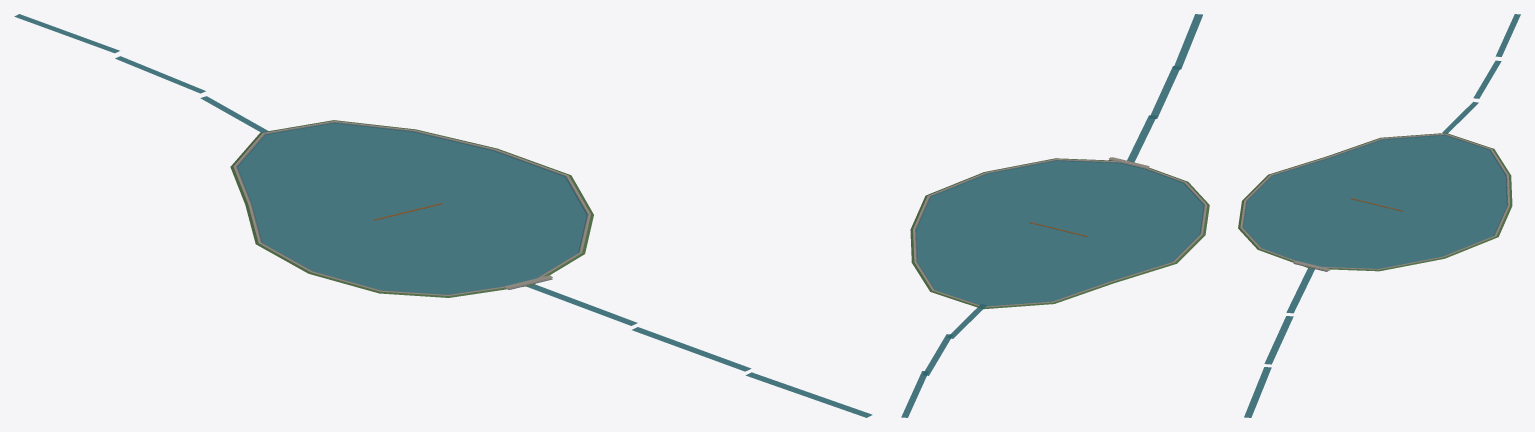
Rendered from water_ho_da_tam_mimosa.glb.
3 views of the same model, side by side, from view 1: azimuth 30°, elevation 25°; view 2: azimuth 150°, elevation 25°; view 3: azimuth 330°, elevation 25° (orthographic). The views are drawn at different scales.
Visible parts, largest first — view 1: water_surface_water_ho_da_tam_mimosa, headwater_terraces_stream_outflow_da_tam_lower_mimosa, shoreline_terrain_transition_verge_water_ho_da_tam_mimosa, lakeside_promenade_walkway_water_ho_da_tam_mimosa, headwater_terraces_stream_inflow_khe_sanh_mimosa, embankment_stone_coping_water_ho_da_tam_mimosa; view 2: water_surface_water_ho_da_tam_mimosa, shoreline_terrain_transition_verge_water_ho_da_tam_mimosa, headwater_terraces_stream_outflow_da_tam_lower_mimosa, lakeside_promenade_walkway_water_ho_da_tam_mimosa, headwater_terraces_stream_inflow_khe_sanh_mimosa, embankment_stone_coping_water_ho_da_tam_mimosa, embankment_stone_slope_water_ho_da_tam_mimosa; view 3: water_surface_water_ho_da_tam_mimosa, shoreline_terrain_transition_verge_water_ho_da_tam_mimosa, headwater_terraces_stream_outflow_da_tam_lower_mimosa, lakeside_promenade_walkway_water_ho_da_tam_mimosa, headwater_terraces_stream_inflow_khe_sanh_mimosa, embankment_stone_coping_water_ho_da_tam_mimosa, embankment_stone_slope_water_ho_da_tam_mimosa.
Boxes of the visible parts, <box> form: water_surface_water_ho_da_tam_mimosa: <box>237,122,587,294</box>; headwater_terraces_stream_outflow_da_tam_lower_mimosa: <box>526,284,872,417</box>; shoreline_terrain_transition_verge_water_ho_da_tam_mimosa: <box>230,120,593,297</box>; lakeside_promenade_walkway_water_ho_da_tam_mimosa: <box>233,121,590,295</box>; headwater_terraces_stream_inflow_khe_sanh_mimosa: <box>14,14,267,132</box>; embankment_stone_coping_water_ho_da_tam_mimosa: <box>236,122,588,294</box>; water_surface_water_ho_da_tam_mimosa: <box>916,160,1203,306</box>; shoreline_terrain_transition_verge_water_ho_da_tam_mimosa: <box>910,158,1209,309</box>; headwater_terraces_stream_outflow_da_tam_lower_mimosa: <box>1127,14,1202,161</box>; lakeside_promenade_walkway_water_ho_da_tam_mimosa: <box>913,159,1207,307</box>; headwater_terraces_stream_inflow_khe_sanh_mimosa: <box>901,304,986,417</box>; embankment_stone_coping_water_ho_da_tam_mimosa: <box>915,160,1204,306</box>; embankment_stone_slope_water_ho_da_tam_mimosa: <box>915,160,1204,287</box>; water_surface_water_ho_da_tam_mimosa: <box>1243,135,1507,268</box>; shoreline_terrain_transition_verge_water_ho_da_tam_mimosa: <box>1238,133,1512,271</box>; headwater_terraces_stream_outflow_da_tam_lower_mimosa: <box>1244,268,1314,417</box>; lakeside_promenade_walkway_water_ho_da_tam_mimosa: <box>1240,133,1509,269</box>; headwater_terraces_stream_inflow_khe_sanh_mimosa: <box>1442,14,1520,133</box>; embankment_stone_coping_water_ho_da_tam_mimosa: <box>1242,134,1508,268</box>; embankment_stone_slope_water_ho_da_tam_mimosa: <box>1243,134,1507,244</box>.
Bounding box in the file's own units: 649 × 44 × 2206.
